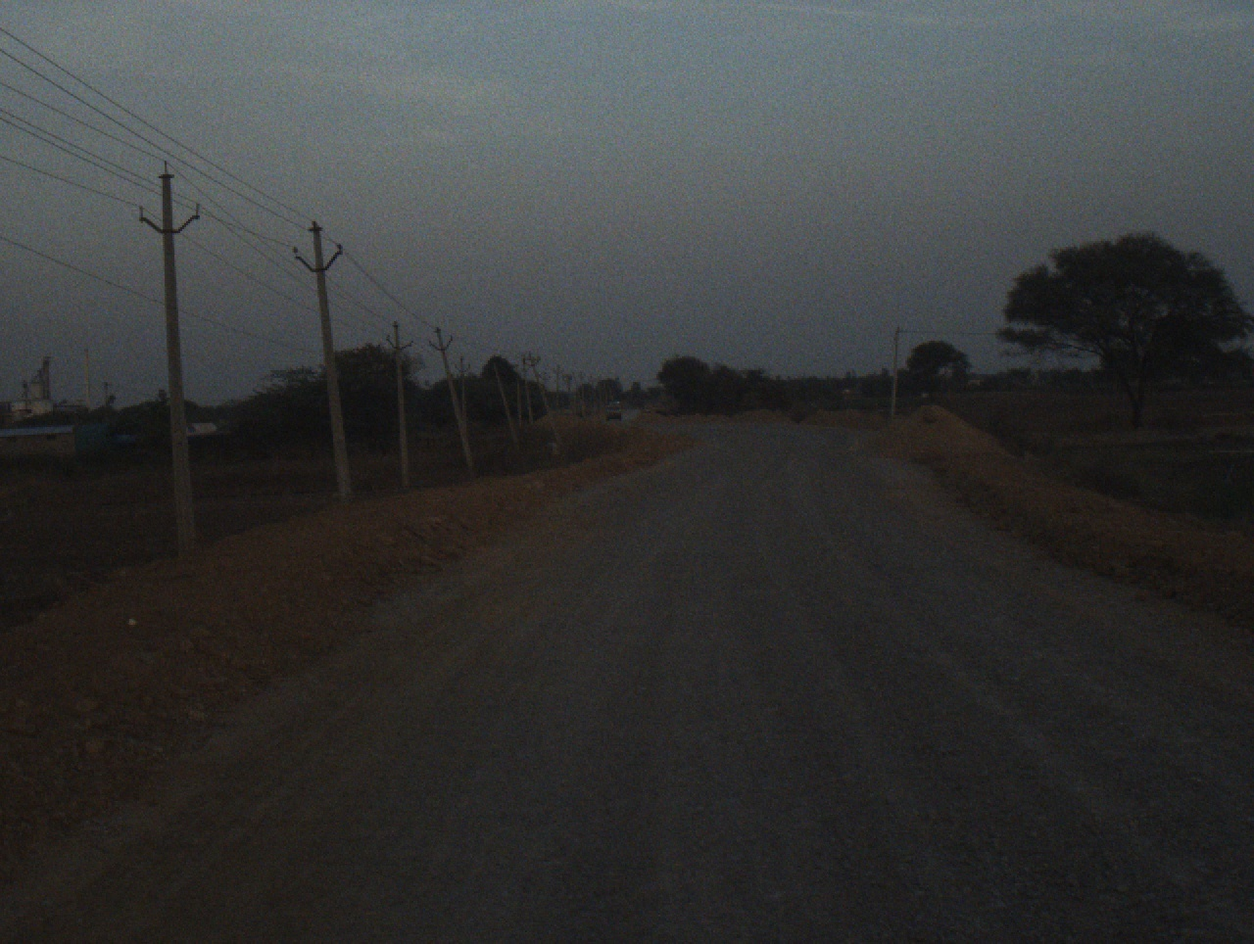car: (604, 395, 622, 420)
